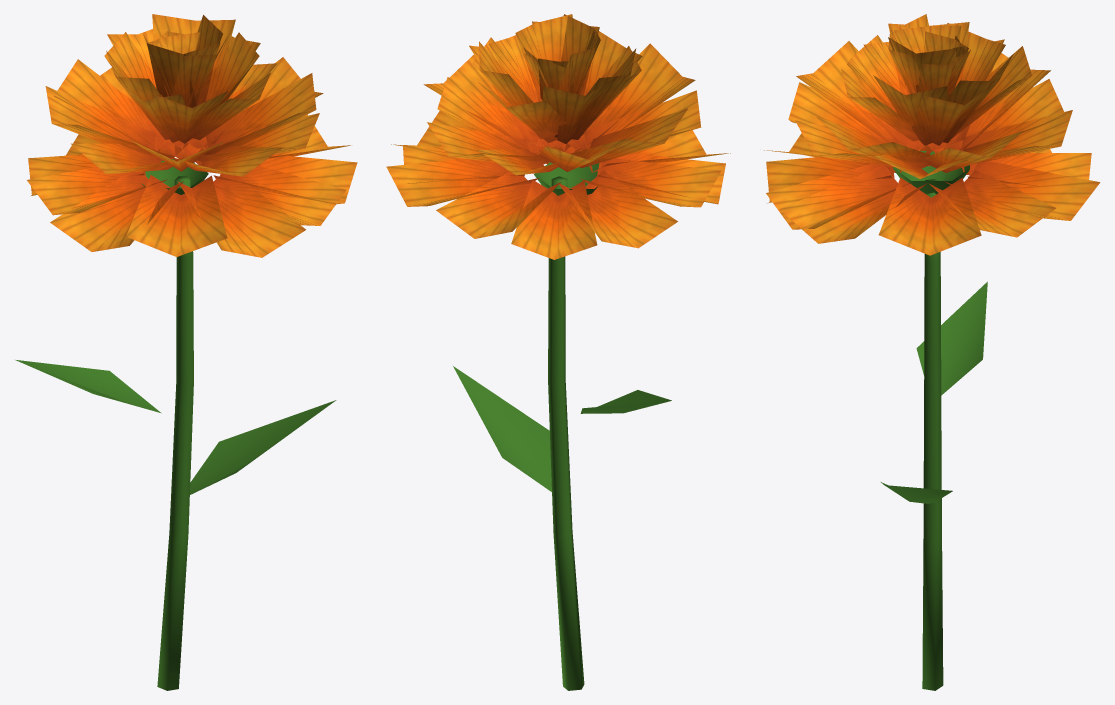
File: flor_cempasuchil.gltf
3 views of the same model, side by side, from view 1: azimuth 30°, elevation 25°; view 2: azimuth 150°, elevation 25°; view 3: azimuth 270°, elevation 25° (orthographic).
Visible parts, largest first — view 1: cabeza, tallo; view 2: cabeza, tallo; view 3: cabeza, tallo.
Part boxes in pixels (x1,y1,x2,y2): cabeza: [27, 14, 357, 257]; tallo: [15, 159, 336, 690]; cabeza: [386, 14, 730, 259]; tallo: [453, 162, 671, 690]; cabeza: [764, 14, 1100, 255]; tallo: [881, 151, 987, 690].
Size of the model in its own units: 0.1329 by 0.2849 by 0.1329.
2 materials, 1 textured.
